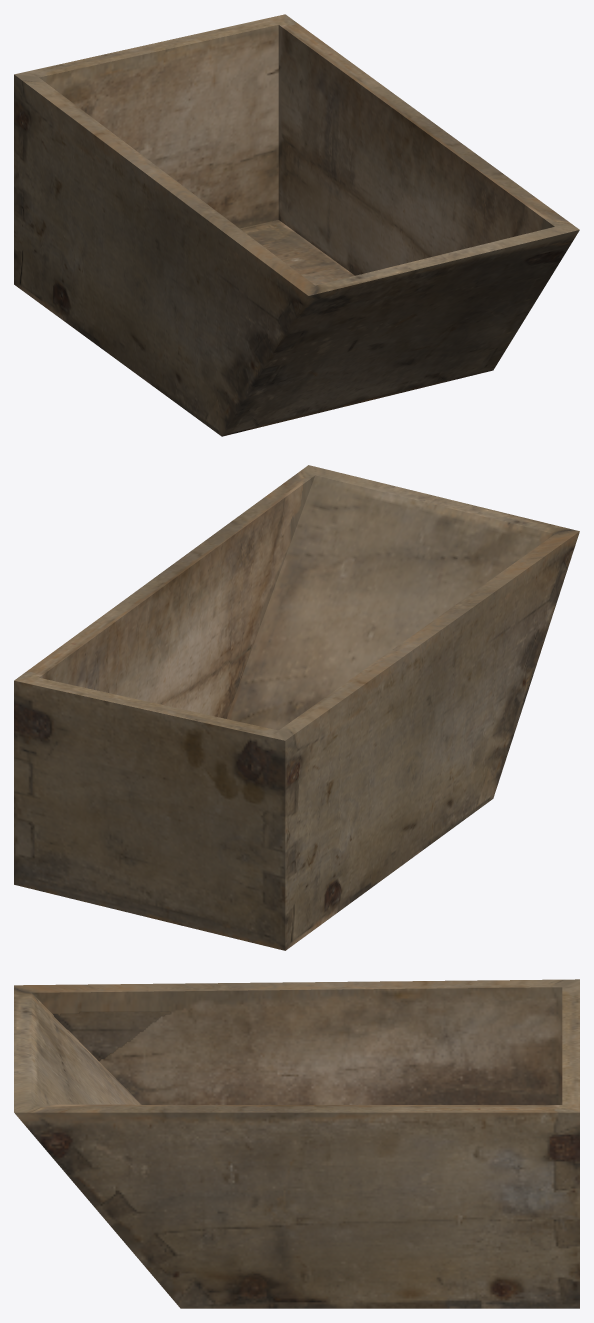
File: OU_AR_Wooden_Container_03_D.fbx
3 views of the same model, one above another, from view 1: azimuth 30°, elevation 25°; view 2: azimuth 150°, elevation 25°; view 3: azimuth 270°, elevation 25° (orthographic). The views are drawn at different scales.
Visible parts, largest first — view 1: OU_AR_Wooden_Container_03_D; view 2: OU_AR_Wooden_Container_03_D; view 3: OU_AR_Wooden_Container_03_D.
Boxes of the visible parts, x1,y1,x2,y2 form: OU_AR_Wooden_Container_03_D: (14, 14, 579, 436); OU_AR_Wooden_Container_03_D: (14, 465, 579, 950); OU_AR_Wooden_Container_03_D: (14, 979, 579, 1308).
Size of the model in its own units: 27.02 by 19.99 by 50.8.
Materials: 1 (1 with a texture image).
